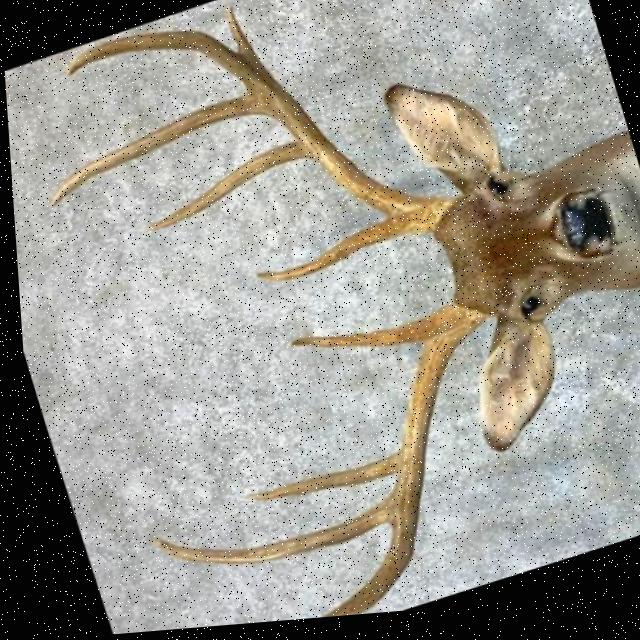E1: (223, 8, 259, 70)
L-F: (309, 308, 481, 622)
L-G1: (281, 315, 445, 353)
L-G2: (241, 455, 391, 504)
L-G3: (140, 500, 383, 567)
R-F: (63, 33, 451, 240)
R-G1: (250, 221, 405, 286)
R-G2: (137, 145, 310, 233)
R-G3: (44, 98, 265, 207)
